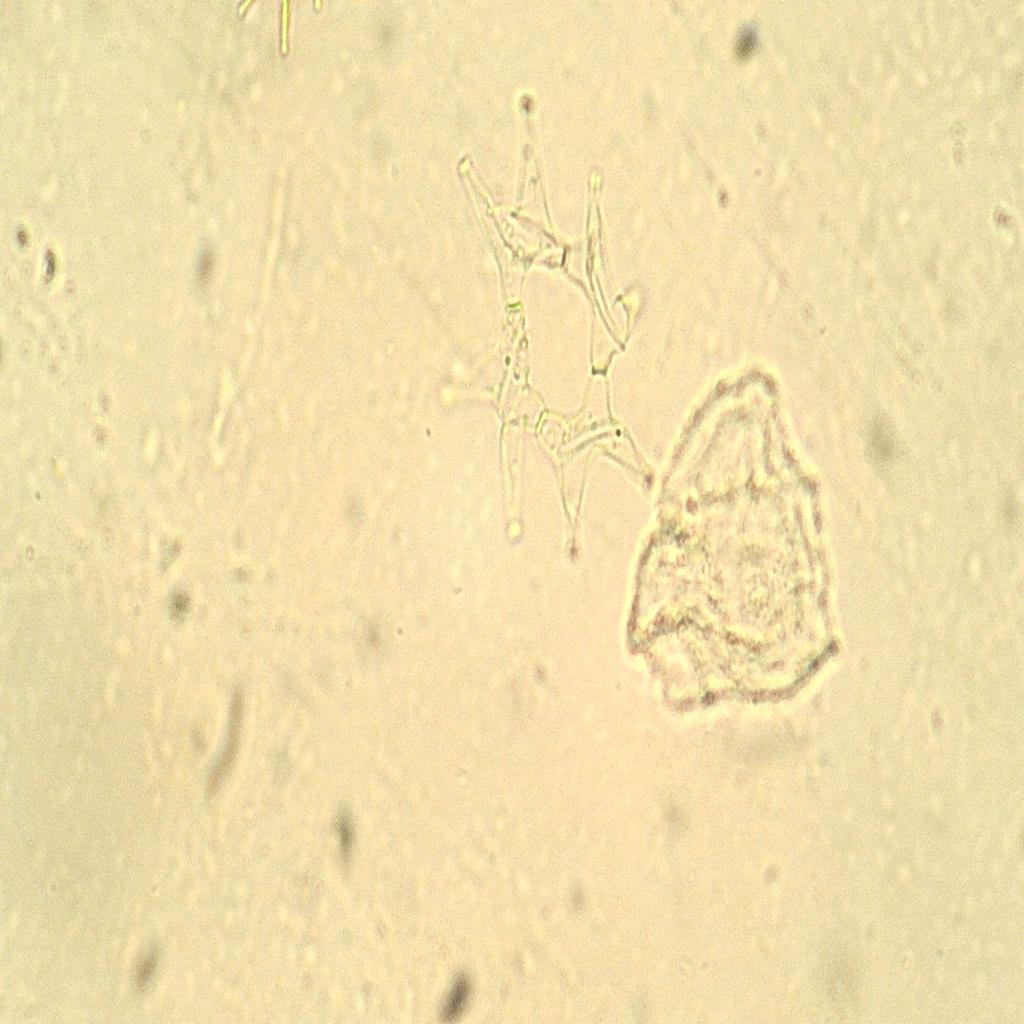Pediastrum_75TH: (423, 82, 689, 573)
